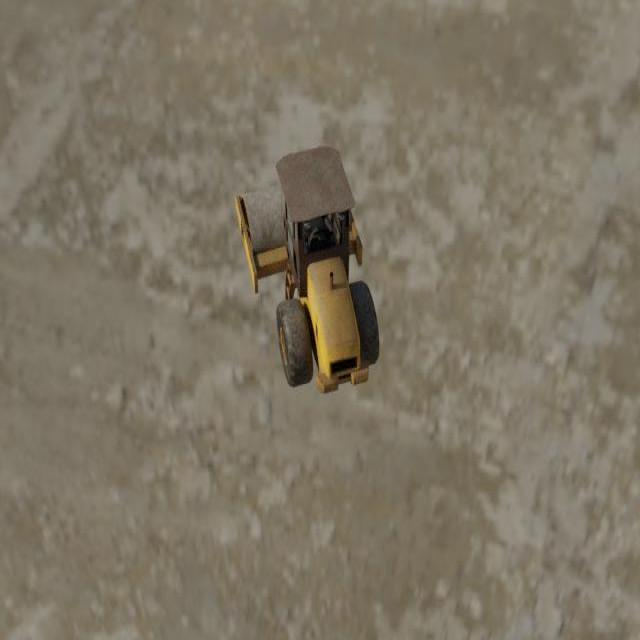Roller: (234, 145, 380, 395)
